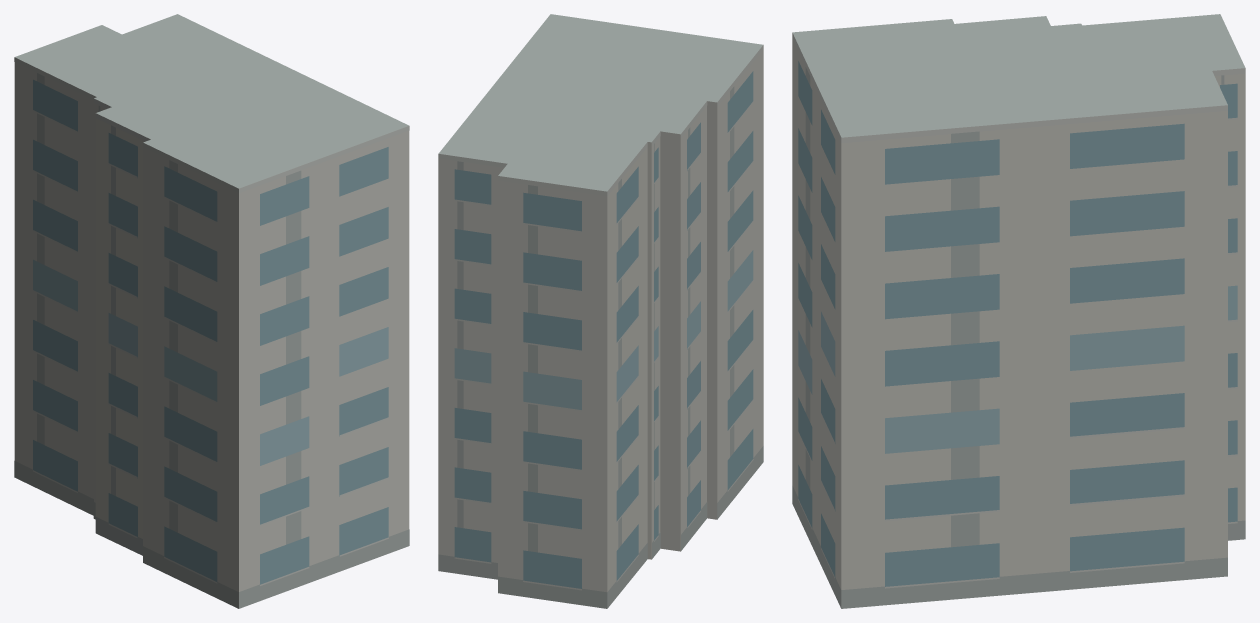
The model's file is survey-upis-32701388.glb.
The picture shows the model from 3 angles, left to right: view 1: azimuth 30°, elevation 25°; view 2: azimuth 150°, elevation 25°; view 3: azimuth 270°, elevation 25°; orthographic projection. The views are drawn at different scales.
Visible parts, largest first — view 1: survey-upis-32701388.tmp; view 2: survey-upis-32701388.tmp; view 3: survey-upis-32701388.tmp.
Boxes of the visible parts, x1=… form: survey-upis-32701388.tmp: x1=14, y1=14, x2=409, y2=608; survey-upis-32701388.tmp: x1=438, y1=14, x2=763, y2=608; survey-upis-32701388.tmp: x1=792, y1=14, x2=1245, y2=608.
Size of the model in its own units: 12.03 by 21.35 by 18.62.
